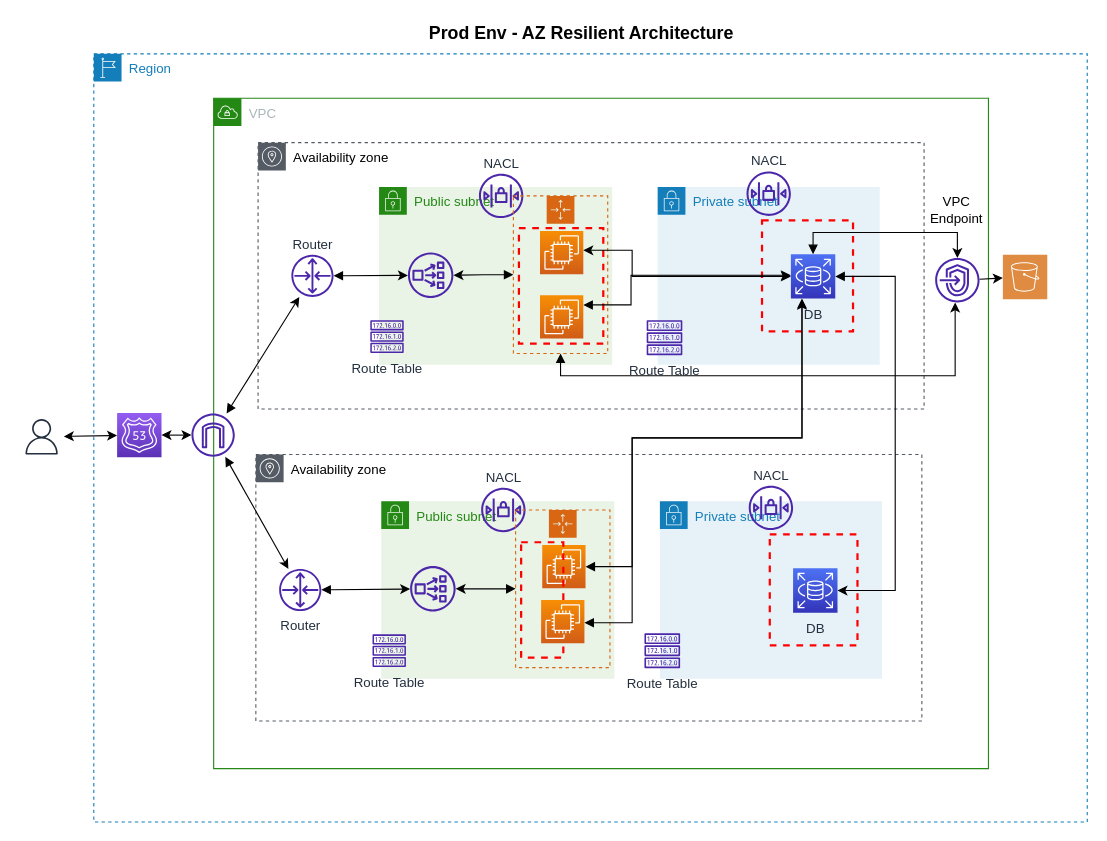
The diagram is 1107 pixels wide and 841 high, and some of its shapes have lost their labels. The centre of each missing label's shape, as x and y in pixels:
"IGW" belongs at point 212,434.
"User" belongs at point 41,436.
